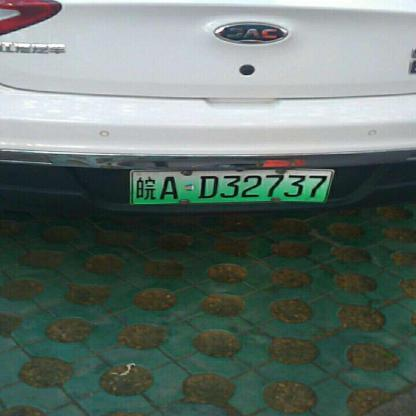lp: (132, 170, 332, 204)
